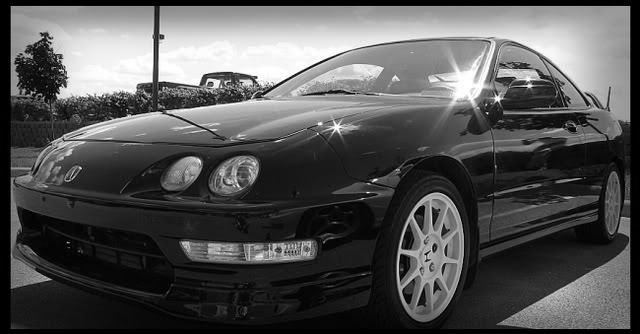car: (10, 34, 627, 322)
